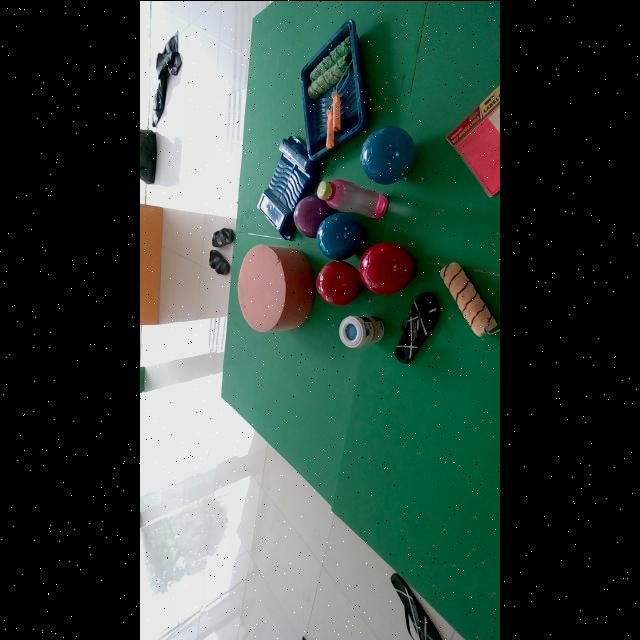B: (360, 124, 414, 184), (316, 214, 362, 259)
P: (294, 194, 335, 238)
R: (359, 242, 412, 294), (316, 259, 362, 305), (380, 267, 382, 269)
